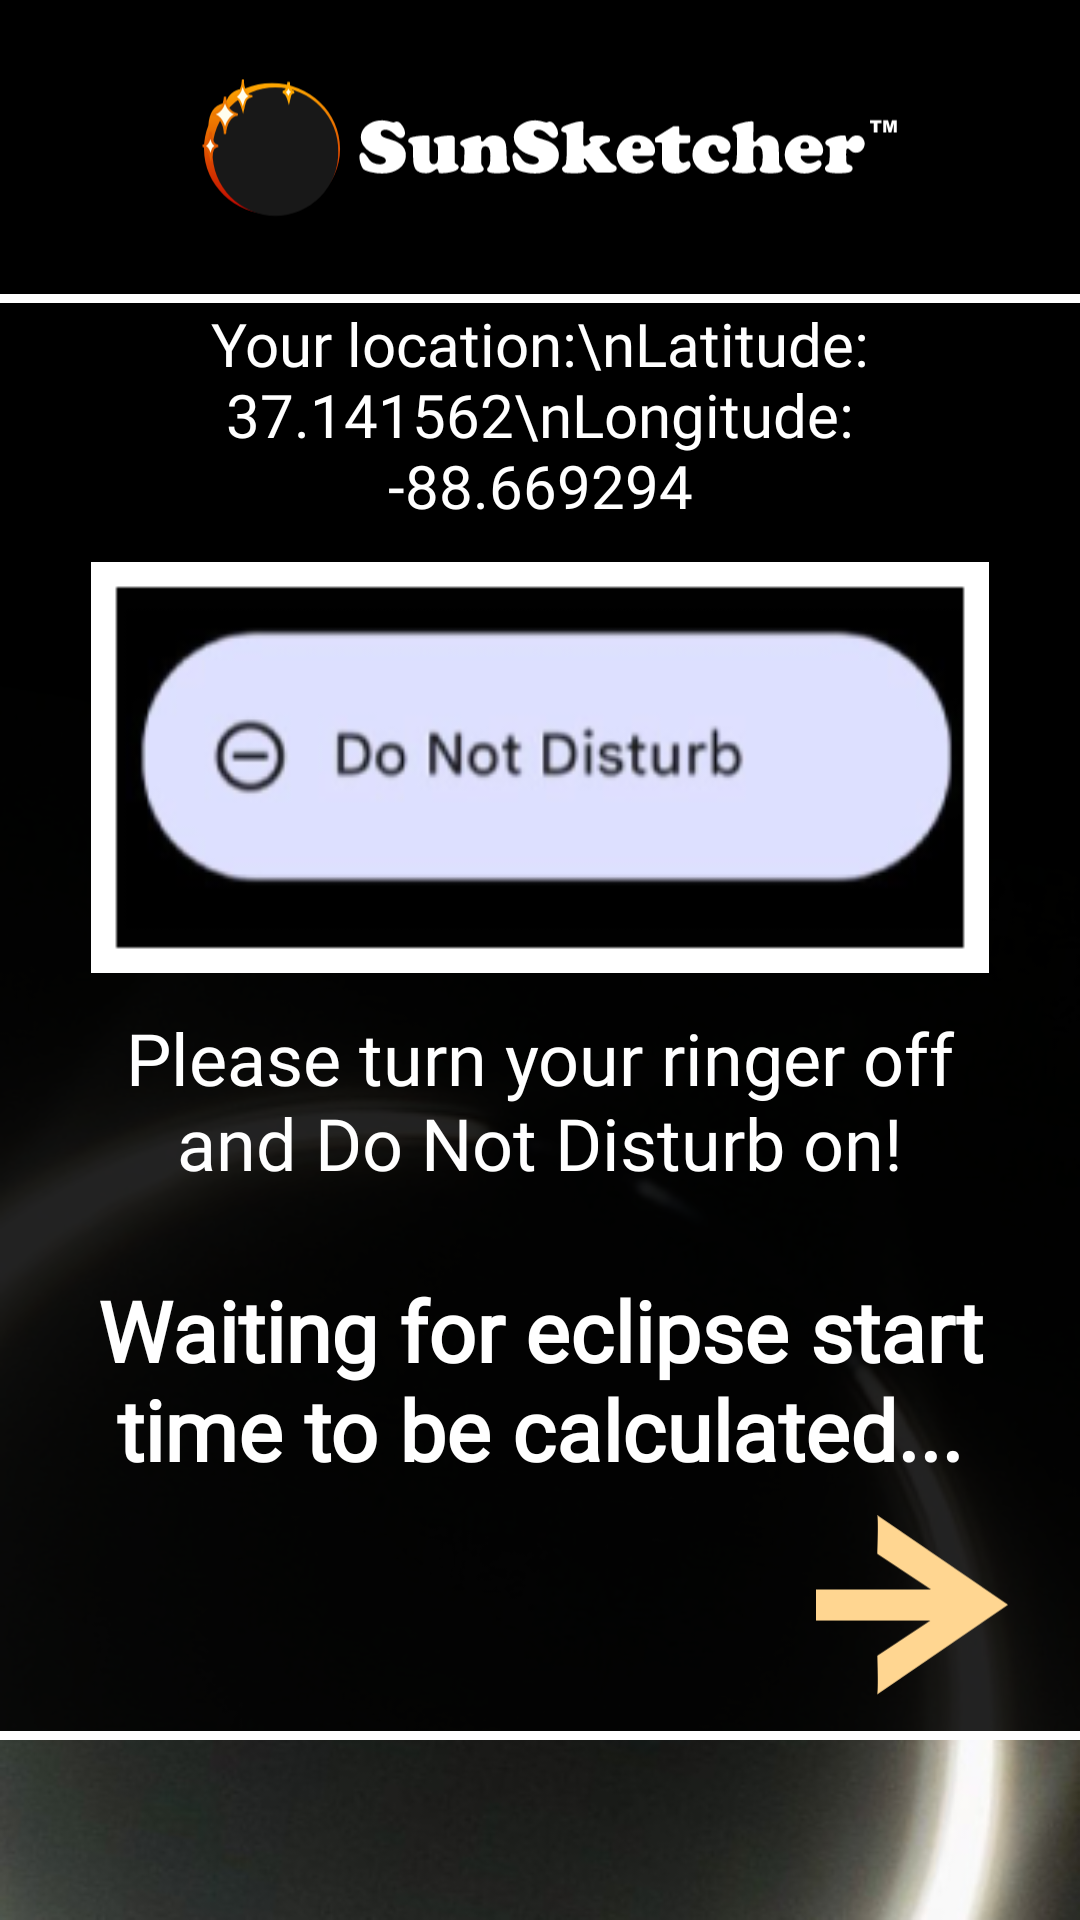

Icon click points for this 1080 x 1920 phone screenshot, format (x,y):
Next page: (912,1605)
